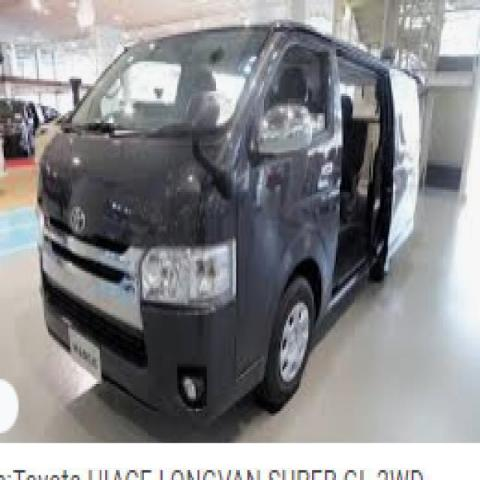van: (33, 19, 428, 425)
